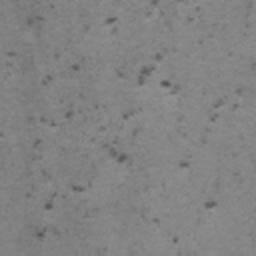Oxide scale of temperature system: (31, 61, 82, 151), (114, 52, 172, 120), (35, 183, 87, 238), (104, 0, 159, 24), (151, 216, 180, 243), (207, 95, 229, 122), (109, 146, 128, 165), (26, 14, 44, 27), (204, 200, 219, 211), (4, 50, 18, 58), (177, 160, 189, 169)
